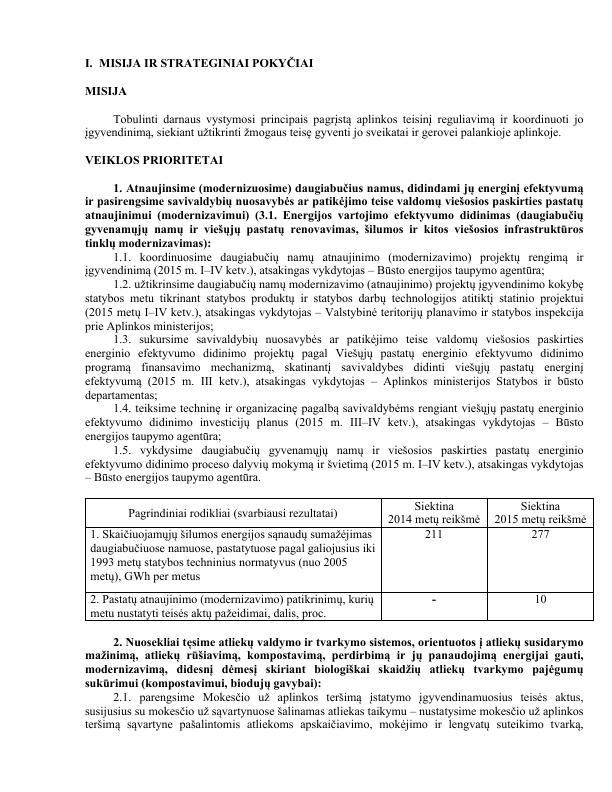table: (82, 497, 596, 625)
text: (83, 151, 587, 486), (82, 636, 588, 737), (83, 82, 587, 141), (82, 55, 318, 71)
